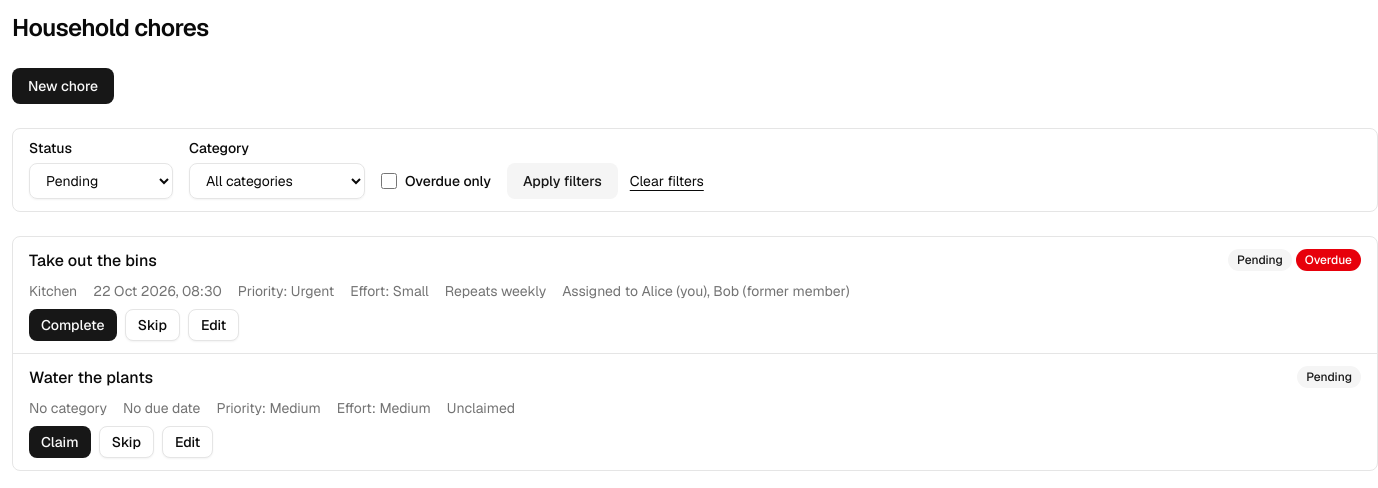
Test: /chores filter form across client-side navigations › resets unapplied edits when Clear filters leads back to the same filters, from the default filters
Select "Skipped" in the dropdown with id "filter-status": point(101, 181) [29, 163, 173, 199]
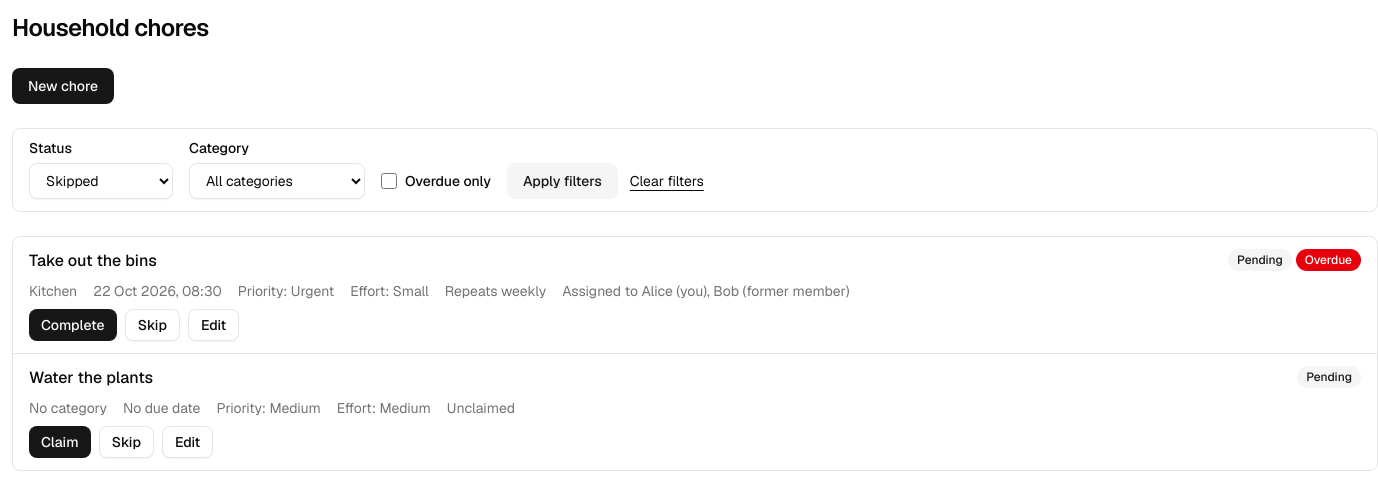
Select "Bathroom" in the dropdown with id "filter-category": point(277, 181) [189, 163, 365, 199]
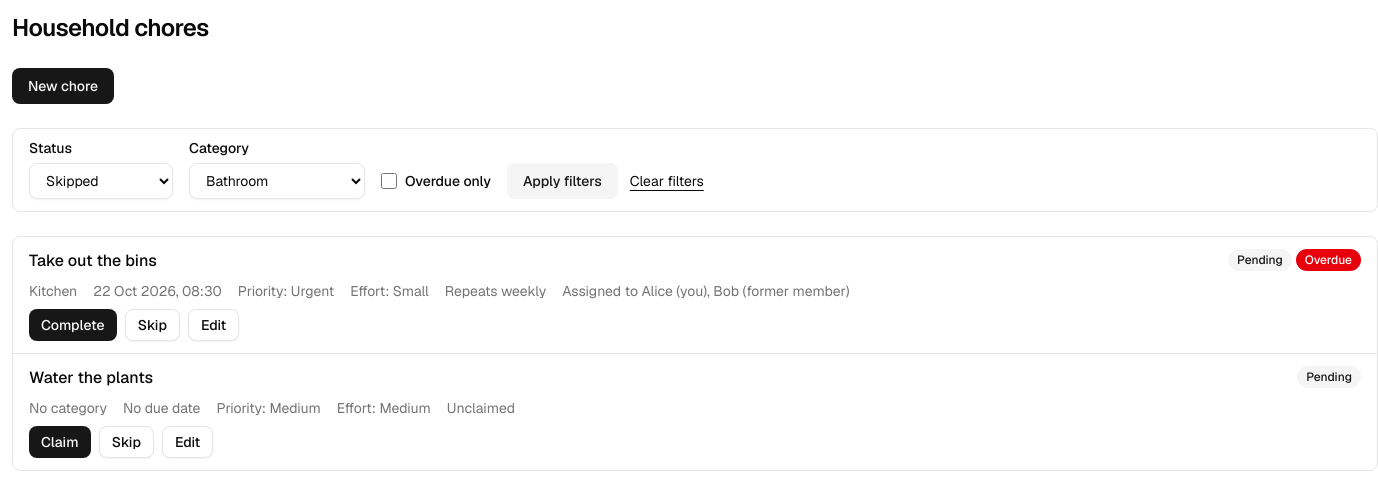
Click the checkbox named "overdue": point(389, 181) [381, 173, 397, 189]
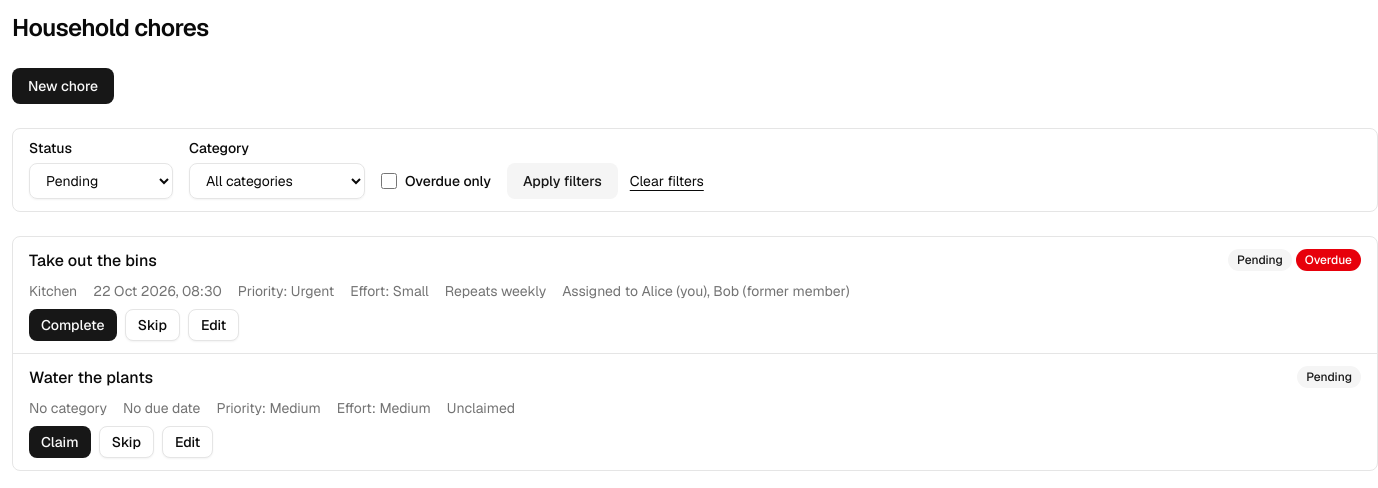
Check: the dropdown with id "filter-status" shows "Pending", box [29, 163, 173, 199]
Check: the dropdown with id "filter-category" shows "All categories", box [189, 163, 365, 199]
